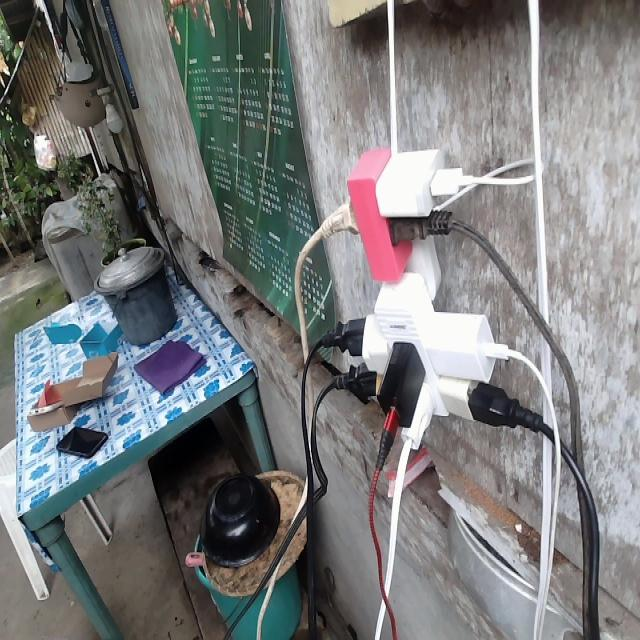-: (327, 142, 517, 470)
